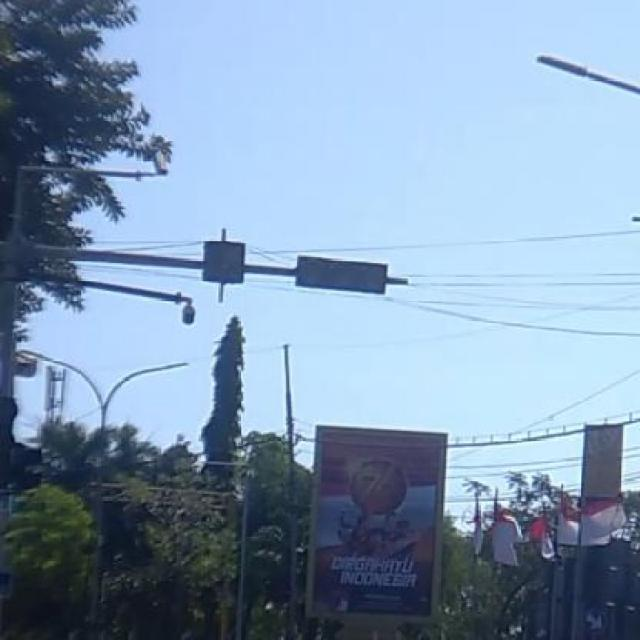traffic light: (296, 260, 388, 295)
